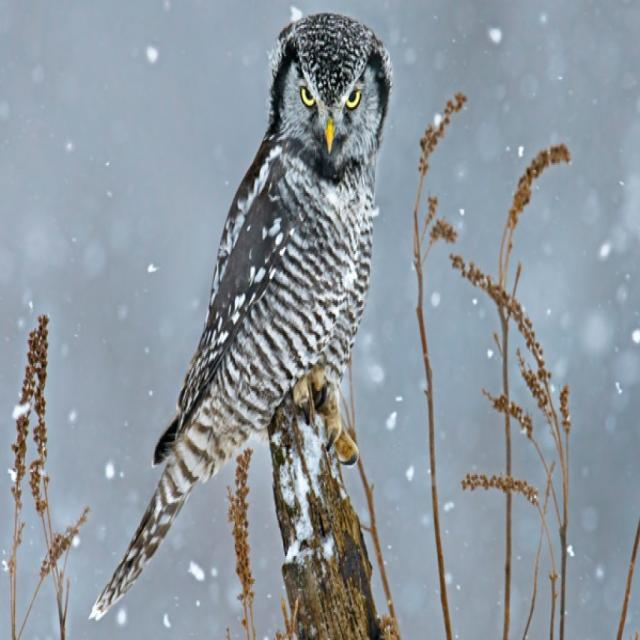owl: (78, 11, 397, 628)
